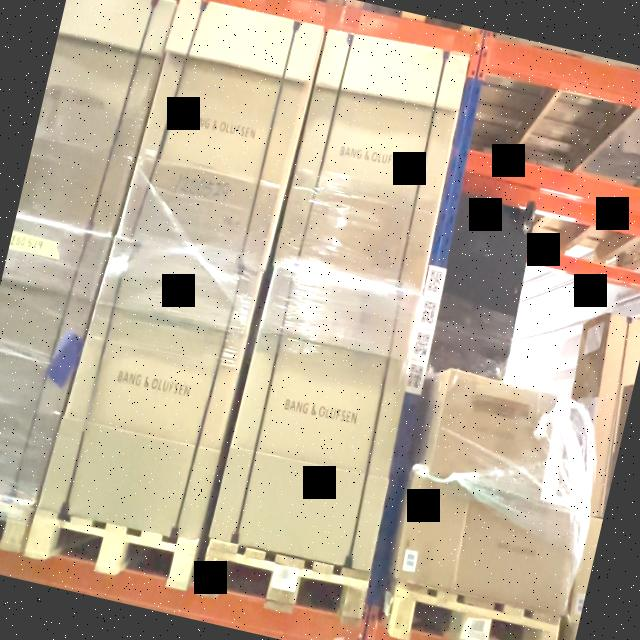box: (39, 237, 256, 541), (210, 265, 419, 571), (117, 0, 323, 273), (274, 30, 469, 294), (427, 369, 558, 504), (453, 491, 579, 616), (394, 471, 469, 592)
